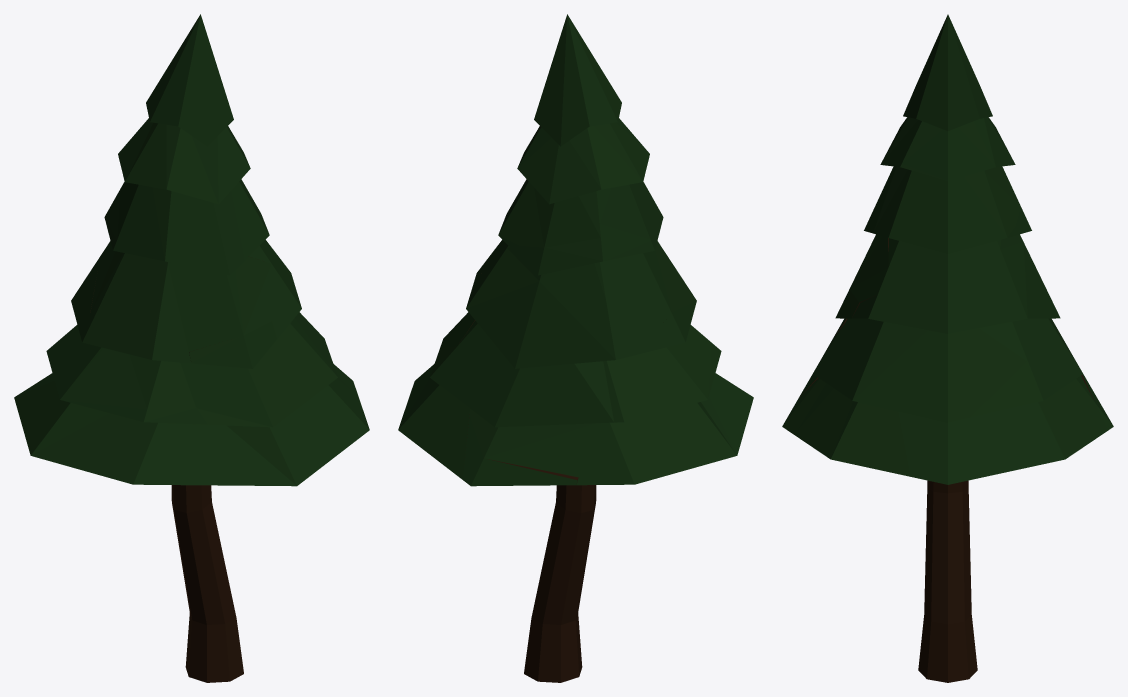
The model's file is Tree5_fract.FBX.
3 renders of one model, left to right at view 1: azimuth 30°, elevation 25°; view 2: azimuth 150°, elevation 25°; view 3: azimuth 270°, elevation 25°, orthographic.
Parts seen in each view (by area): view 1: pine tree 2_Part_8, pine tree 2_Part_3, pine tree 2_Part_2, pine tree 2_Part_4, pine tree 2_Part_10, pine tree 2_Part_9, pine tree 2_Part_5, pine tree 2_Part_1, pine tree 2_Part_7; view 2: pine tree 2_Part_1, pine tree 2_Part_2, pine tree 2_Part_3, pine tree 2_Part_8, pine tree 2_Part_4, pine tree 2_Part_6, pine tree 2_Part_7, pine tree 2_Part_10, pine tree 2_Part_5, pine tree 2_Part_9; view 3: pine tree 2_Part_9, pine tree 2_Part_7, pine tree 2_Part_5, pine tree 2_Part_8, pine tree 2_Part_1, pine tree 2_Part_3, pine tree 2_Part_4, pine tree 2_Part_6.
Part boxes in pixels (x1,y1,x2,y2): pine tree 2_Part_8: [171, 321, 314, 682]; pine tree 2_Part_3: [115, 14, 249, 272]; pine tree 2_Part_2: [14, 313, 195, 455]; pine tree 2_Part_4: [90, 199, 287, 351]; pine tree 2_Part_10: [31, 407, 242, 485]; pine tree 2_Part_9: [272, 253, 369, 471]; pine tree 2_Part_5: [227, 126, 271, 263]; pine tree 2_Part_1: [56, 257, 99, 343]; pine tree 2_Part_7: [232, 364, 358, 680]; pine tree 2_Part_1: [457, 271, 661, 477]; pine tree 2_Part_2: [576, 282, 737, 485]; pine tree 2_Part_3: [543, 14, 663, 239]; pine tree 2_Part_8: [463, 415, 596, 682]; pine tree 2_Part_4: [481, 236, 684, 324]; pine tree 2_Part_6: [517, 89, 603, 247]; pine tree 2_Part_7: [398, 346, 547, 682]; pine tree 2_Part_10: [709, 343, 753, 455]; pine tree 2_Part_5: [498, 126, 540, 248]; pine tree 2_Part_9: [440, 253, 491, 347]; pine tree 2_Part_9: [794, 294, 1027, 476]; pine tree 2_Part_7: [911, 362, 1108, 682]; pine tree 2_Part_5: [873, 114, 1015, 290]; pine tree 2_Part_8: [782, 289, 1113, 671]; pine tree 2_Part_1: [975, 242, 1094, 402]; pine tree 2_Part_3: [865, 14, 998, 232]; pine tree 2_Part_4: [849, 207, 1031, 312]; pine tree 2_Part_6: [954, 88, 1020, 225].
Bounding box in the file's own units: 1122 × 2193 × 1016.
